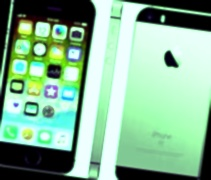iphone: (125, 2, 211, 180), (1, 1, 86, 180), (100, 1, 111, 179)
